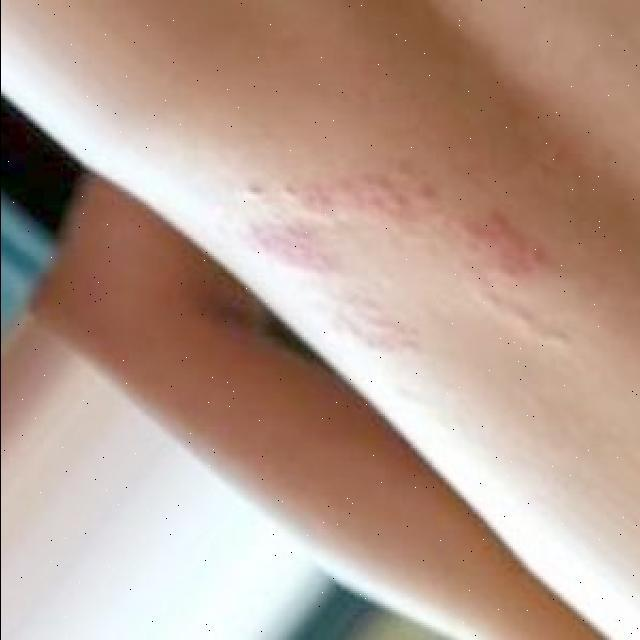Shingles: (234, 152, 574, 366)
